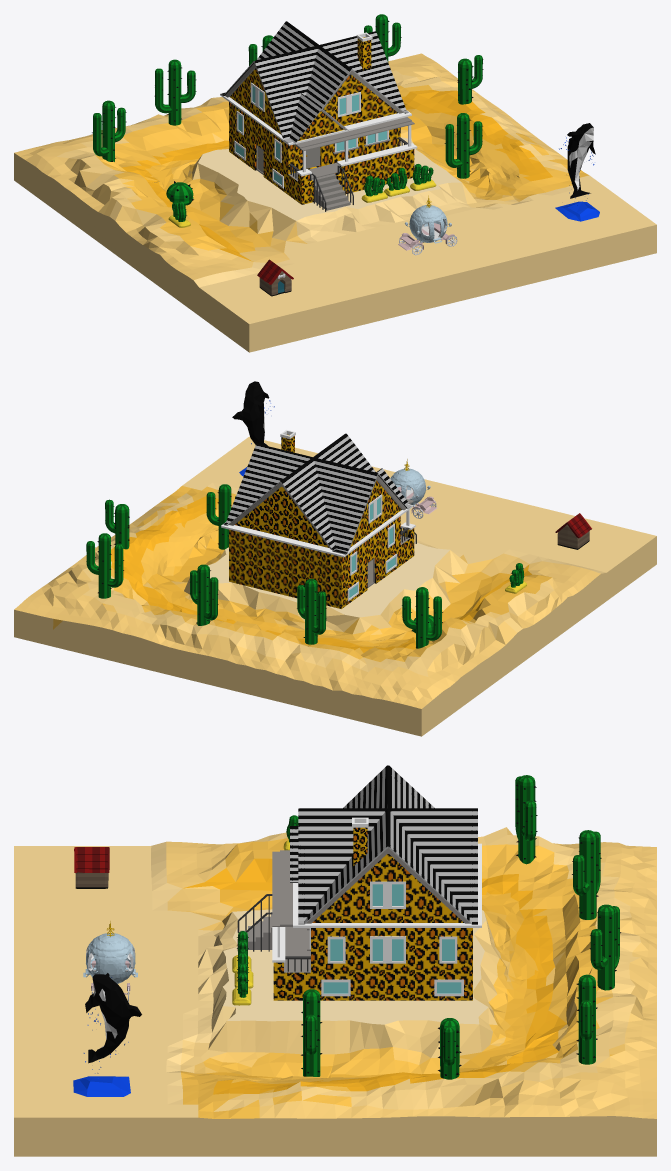
3 renders of one model, top to bottom at view 1: azimuth 30°, elevation 25°; view 2: azimuth 150°, elevation 25°; view 3: azimuth 270°, elevation 25°, orthographic. The views are drawn at different scales.
Parts seen in each view (by area): view 1: Cube.001, Cube.637, ANIMAL_ORCA, VEHICLES_FANTASY_CARRIAGE, Cylinder.044, Cylinder.037, Cylinder.045, Cylinder.038, OBJRANDOM_DOGHOUSE, Cylinder.042, Cylinder.039, Cylinder.041 (+2 smaller); view 2: Cube.001, Cube.637, Cylinder.042, Cylinder.045, Cylinder.044, Cylinder.043, ANIMAL_ORCA, VEHICLES_FANTASY_CARRIAGE, Cylinder.037, Cylinder.038, OBJRANDOM_DOGHOUSE; view 3: Cube.001, Cube.637, ANIMAL_ORCA, VEHICLES_FANTASY_CARRIAGE, Cylinder.043, Cylinder.044, Cylinder.045, Cylinder.042, Cylinder.037, OBJRANDOM_DOGHOUSE, Cylinder.038, Cylinder.041.
Part boxes in pixels (x1=…): Cube.001: x1=14, y1=53, x2=656, y2=352; Cube.637: x1=220, y1=21, x2=417, y2=211; ANIMAL_ORCA: x1=555, y1=123, x2=599, y2=221; VEHICLES_FANTASY_CARRIAGE: x1=398, y1=195, x2=457, y2=255; Cylinder.044: x1=154, y1=59, x2=196, y2=125; Cylinder.037: x1=444, y1=113, x2=482, y2=178; Cylinder.045: x1=92, y1=100, x2=126, y2=161; Cylinder.038: x1=457, y1=55, x2=483, y2=104; OBJRANDOM_DOGHOUSE: x1=257, y1=259, x2=293, y2=296; Cylinder.042: x1=364, y1=14, x2=401, y2=62; Cylinder.039: x1=361, y1=175, x2=387, y2=202; Cylinder.041: x1=410, y1=164, x2=436, y2=190; Cube.001: x1=14, y1=436, x2=656, y2=736; Cube.637: x1=221, y1=430, x2=416, y2=608; Cylinder.042: x1=86, y1=533, x2=123, y2=598; Cylinder.045: x1=402, y1=587, x2=442, y2=648; Cylinder.044: x1=297, y1=579, x2=326, y2=644; Cylinder.043: x1=190, y1=564, x2=218, y2=625; ANIMAL_ORCA: x1=232, y1=381, x2=274, y2=476; VEHICLES_FANTASY_CARRIAGE: x1=390, y1=459, x2=436, y2=518; Cylinder.037: x1=206, y1=484, x2=235, y2=549; Cylinder.038: x1=105, y1=499, x2=129, y2=549; OBJRANDOM_DOGHOUSE: x1=555, y1=513, x2=591, y2=549; Cube.001: x1=14, y1=827, x2=656, y2=1156; Cube.637: x1=237, y1=765, x2=481, y2=1000; ANIMAL_ORCA: x1=73, y1=973, x2=141, y2=1096; VEHICLES_FANTASY_CARRIAGE: x1=83, y1=921, x2=137, y2=1001; Cylinder.043: x1=589, y1=904, x2=620, y2=990; Cylinder.044: x1=572, y1=830, x2=601, y2=919; Cylinder.045: x1=515, y1=775, x2=537, y2=864; Cylinder.042: x1=576, y1=974, x2=597, y2=1064; Cylinder.037: x1=301, y1=989, x2=322, y2=1076; OBJRANDOM_DOGHOUSE: x1=74, y1=847, x2=109, y2=888; Cylinder.038: x1=438, y1=1018, x2=461, y2=1079; Cylinder.041: x1=232, y1=963, x2=251, y2=1005.
Size of the model in its own units: 4002 by 1627 by 4001.
Materials: 30 (3 with a texture image).
